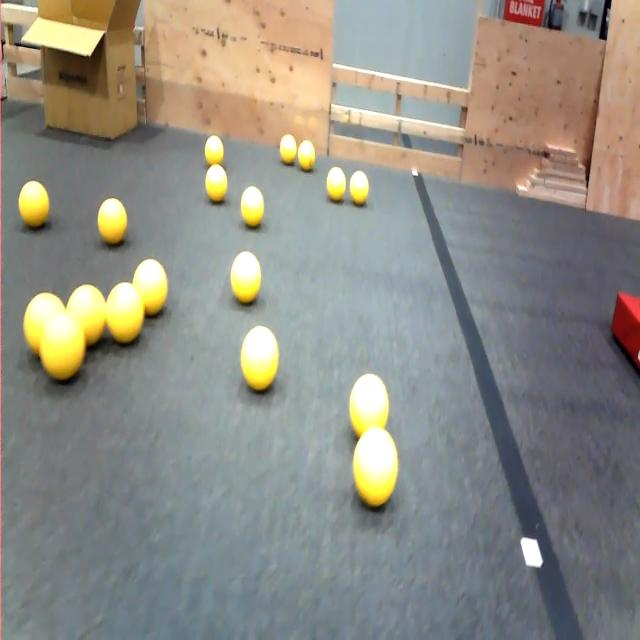fuel: (353, 427, 398, 508), (40, 312, 85, 381), (23, 292, 64, 355), (349, 374, 388, 438), (66, 285, 105, 347), (241, 327, 278, 391), (106, 282, 144, 343), (133, 259, 167, 316), (231, 252, 261, 303), (18, 181, 49, 228), (98, 198, 128, 245), (241, 186, 264, 227), (205, 165, 227, 203), (350, 170, 368, 206), (327, 167, 346, 201), (298, 140, 316, 172), (205, 136, 223, 166), (280, 134, 297, 165)
